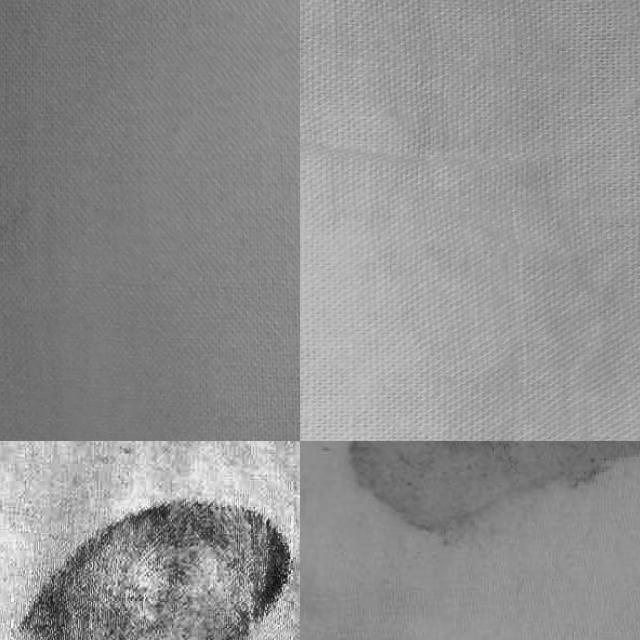Hole: (0, 456, 300, 640), (300, 441, 640, 562)
